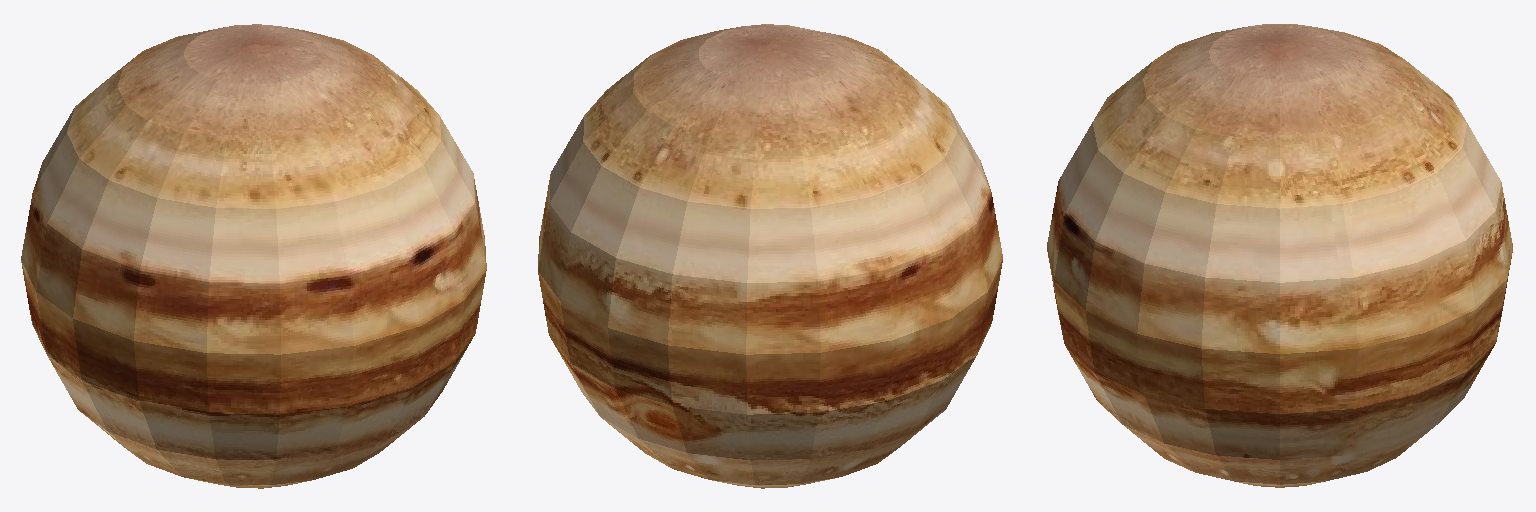
3 views of the same model, side by side, from view 1: azimuth 30°, elevation 25°; view 2: azimuth 150°, elevation 25°; view 3: azimuth 270°, elevation 25° (orthographic).
Visible parts, largest first — view 1: Default object_1; view 2: Default object_1; view 3: Default object_1.
Boxes of the visible parts, x1=… form: Default object_1: x1=21, y1=24, x2=486, y2=488; Default object_1: x1=538, y1=24, x2=1002, y2=488; Default object_1: x1=1047, y1=24, x2=1512, y2=487.
Size of the model in its own units: 11.93 by 12 by 11.96.
Materials: 1 (1 with a texture image).